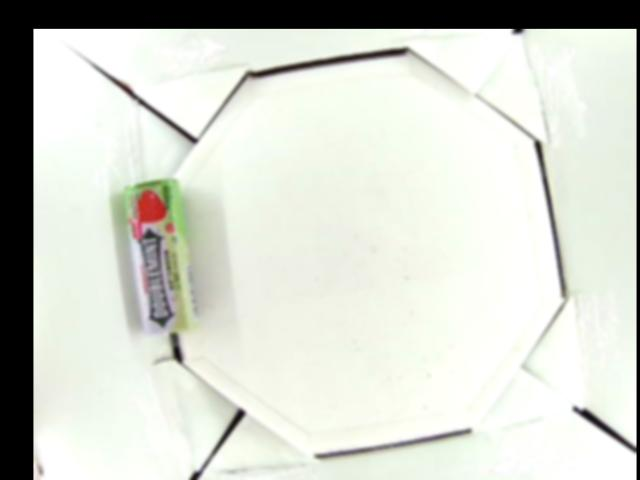Bottle: (125, 176, 198, 336)
